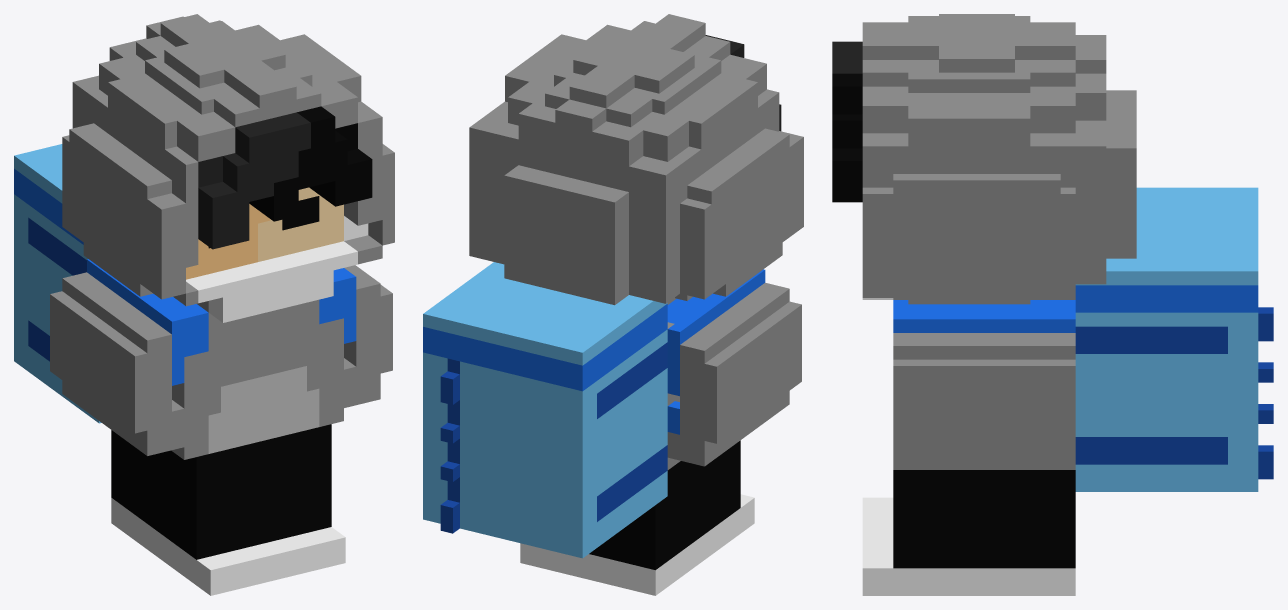
Rendered from shinio40x40x40.obj.
3 renders of one model, left to right at view 1: azimuth 30°, elevation 25°; view 2: azimuth 150°, elevation 25°; view 3: azimuth 270°, elevation 25°, orthographic. The views are drawn at different scales.
Parts seen in each view (by area): view 1: shinio40x40x40; view 2: shinio40x40x40; view 3: shinio40x40x40.
Part boxes in pixels (x1=…): shinio40x40x40: x1=14, y1=14, x2=394, y2=595; shinio40x40x40: x1=423, y1=14, x2=803, y2=595; shinio40x40x40: x1=832, y1=14, x2=1273, y2=595.
Size of the model in its own units: 21 by 38 by 29.
1 material, 1 textured.
